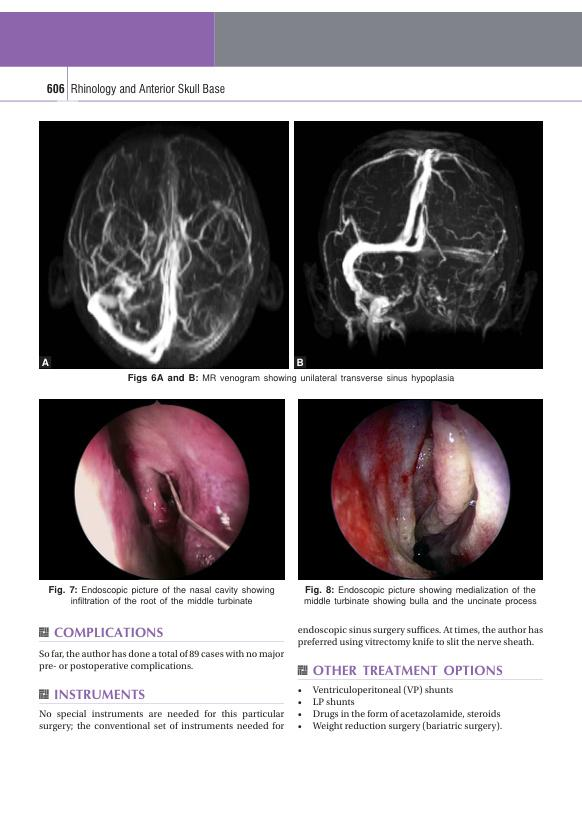caption: (302, 584, 539, 606), (47, 585, 276, 606), (126, 372, 455, 384), (40, 357, 51, 368), (295, 356, 305, 367)
header: (69, 82, 226, 97)
image: (293, 120, 544, 369), (39, 122, 289, 369), (39, 398, 286, 581), (297, 398, 542, 581)
list: (296, 683, 503, 733)
section-heading: (312, 664, 504, 677), (53, 687, 146, 702), (53, 626, 165, 638)
text: (37, 708, 286, 733), (37, 648, 285, 673), (296, 624, 545, 648)
